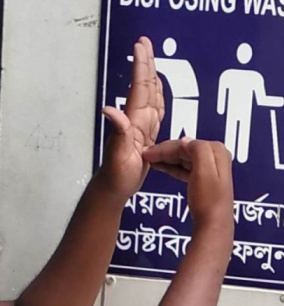ga: (100, 29, 233, 225)
